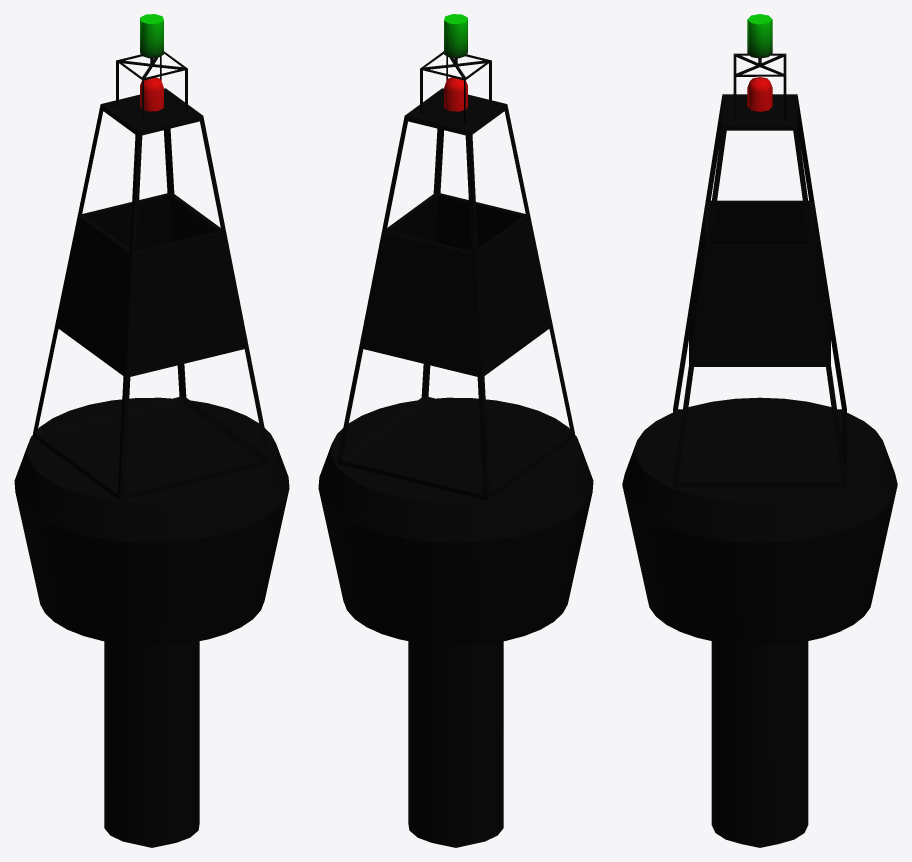
Rendered from Buoy.fbx.
3 renders of one model, left to right at view 1: azimuth 30°, elevation 25°; view 2: azimuth 150°, elevation 25°; view 3: azimuth 270°, elevation 25°, orthographic.
Visible parts, largest first — view 1: Buoy; view 2: Buoy; view 3: Buoy.
Boxes of the visible parts, x1,y1,x2,y2 form: Buoy: (14,14,289,847); Buoy: (318,14,593,847); Buoy: (622,14,897,847).
Size of the model in its own units: 2.2 by 7.3 by 2.2.
